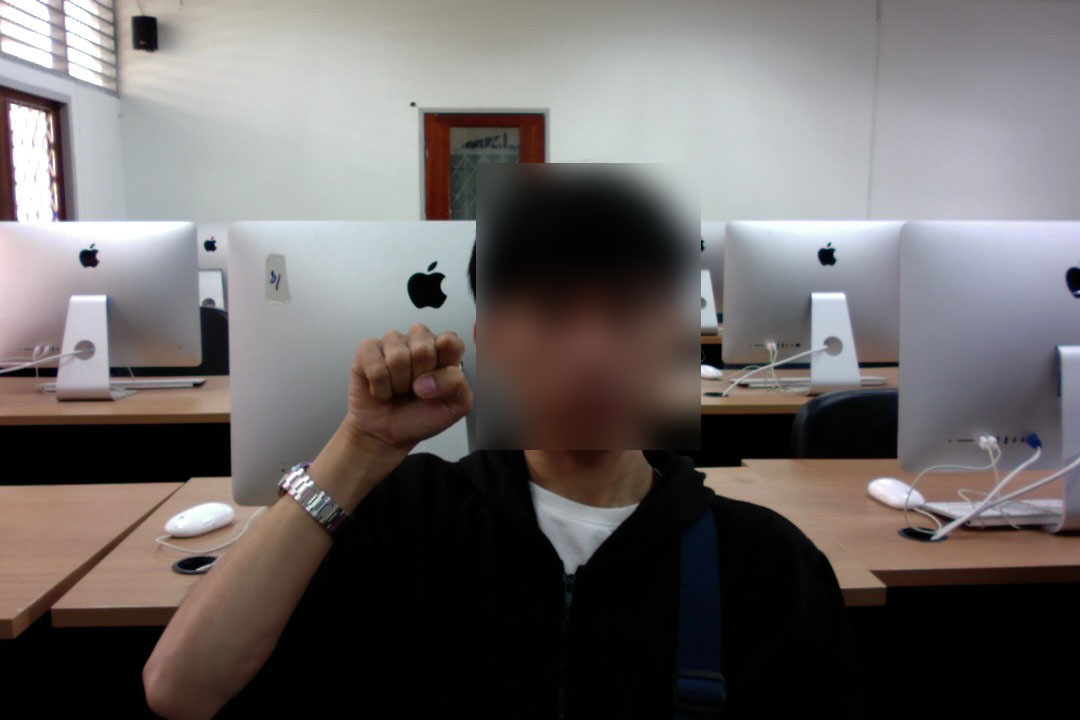sor: (342, 316, 479, 460)
